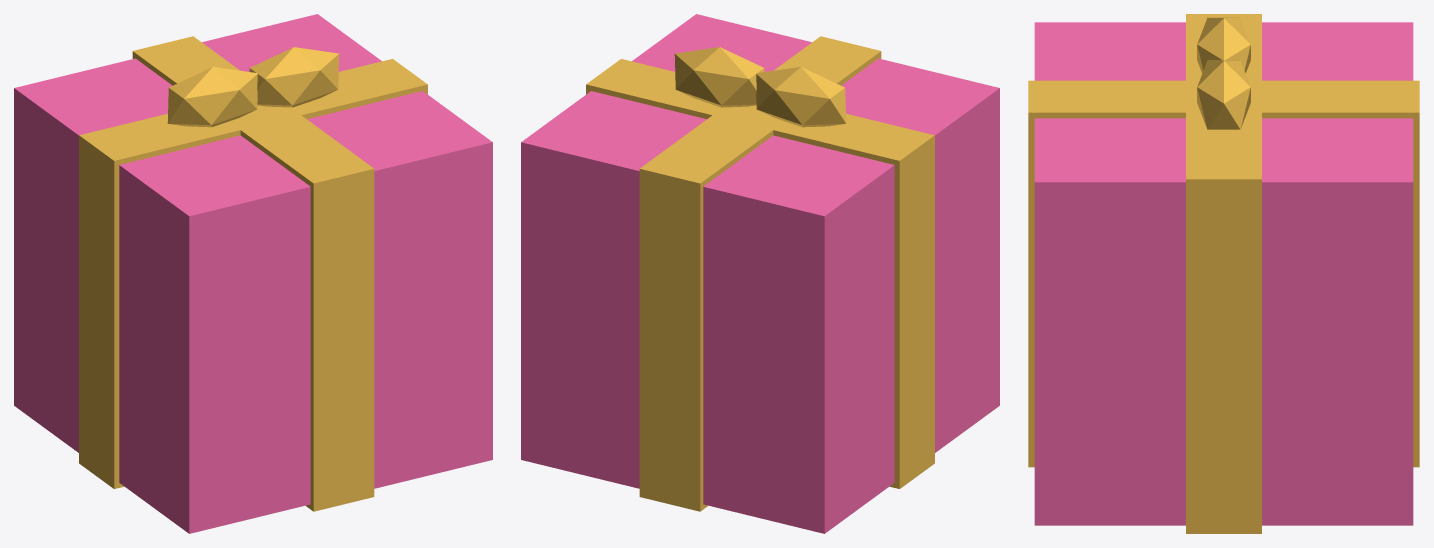
Rendered from gift.glb.
3 renders of one model, left to right at view 1: azimuth 30°, elevation 25°; view 2: azimuth 150°, elevation 25°; view 3: azimuth 270°, elevation 25°, orthographic. The views are drawn at different scales.
Visible parts, largest first — view 1: gift; view 2: gift; view 3: gift.
Part boxes in pixels (x1,y1,x2,y2): gift: [14, 14, 492, 533]; gift: [521, 14, 999, 533]; gift: [1028, 14, 1419, 533].
Size of the model in its own units: 0.62 by 0.72 by 0.62.
